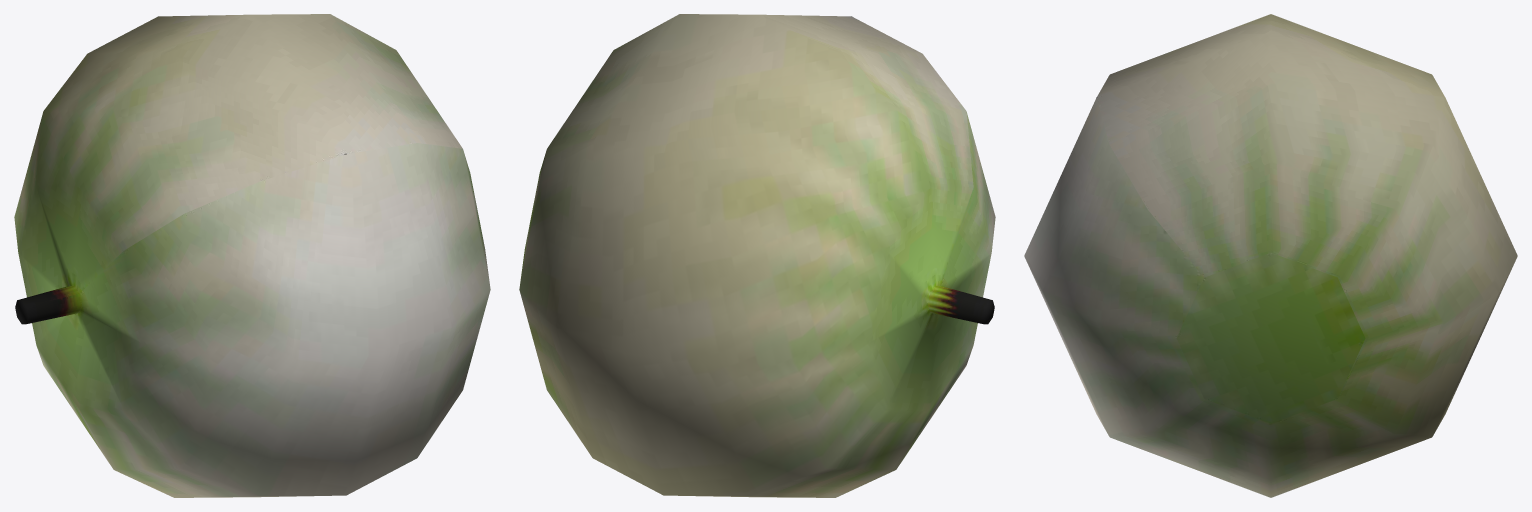
Rendered from cebolla.glb.
3 renders of one model, left to right at view 1: azimuth 30°, elevation 25°; view 2: azimuth 150°, elevation 25°; view 3: azimuth 270°, elevation 25°, orthographic. The views are drawn at different scales.
Visible parts, largest first — view 1: cebolla; view 2: cebolla; view 3: cebolla.
Part boxes in pixels (bbox=[...]): cebolla: bbox=[14, 14, 490, 497]; cebolla: bbox=[519, 14, 995, 497]; cebolla: bbox=[1024, 14, 1517, 497].
Bounding box in the file's own units: 0.1448 × 0.159 × 0.159.
1 material, 1 textured.
